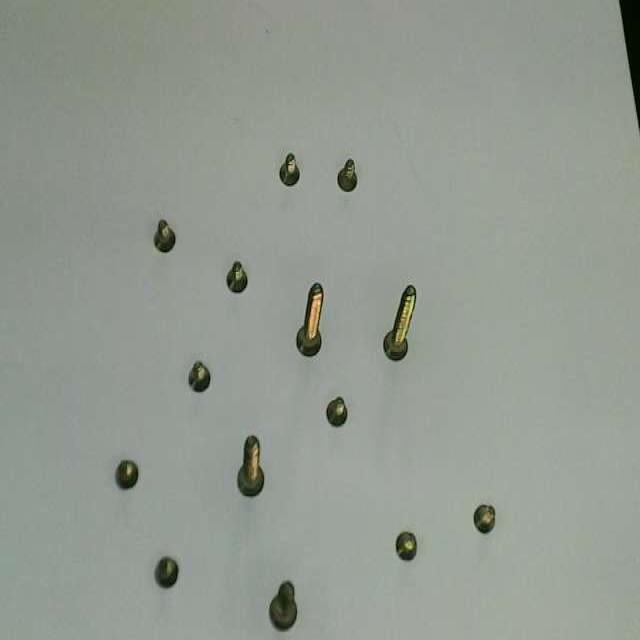Parafuso: (384, 286, 416, 359), (296, 283, 323, 355), (237, 436, 263, 495), (269, 582, 296, 630), (155, 556, 178, 587), (154, 220, 175, 253), (115, 460, 138, 489), (279, 154, 299, 186), (188, 362, 210, 391), (474, 504, 495, 534), (227, 262, 247, 293), (337, 159, 356, 191), (326, 398, 347, 426), (396, 532, 416, 561)
